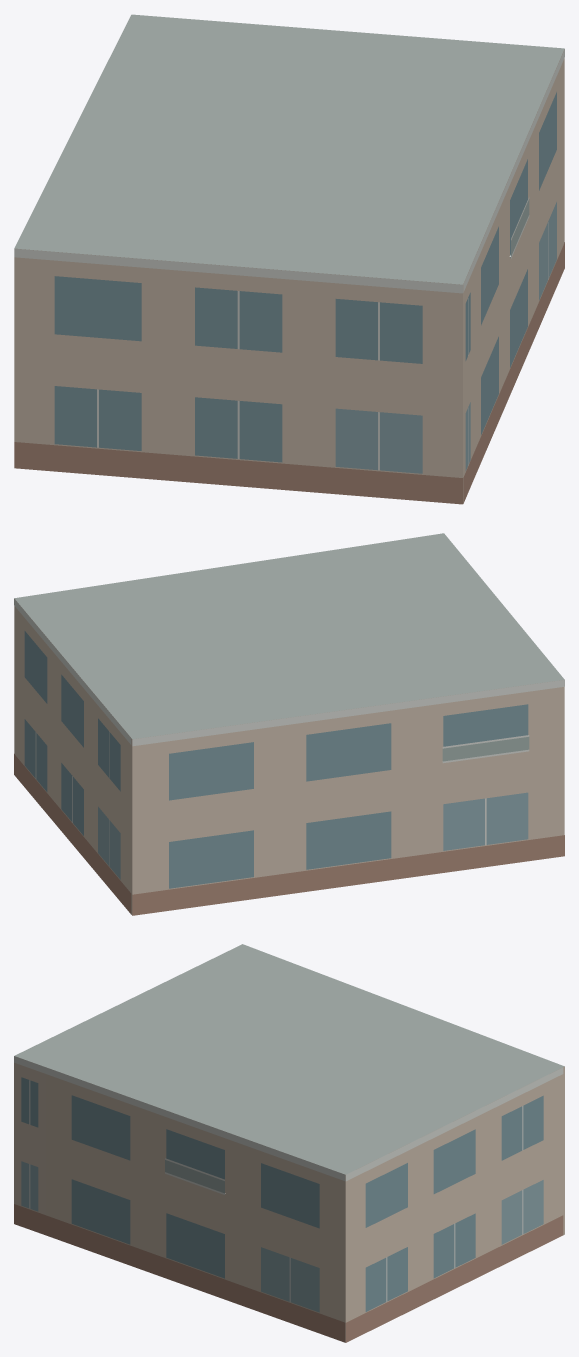
File: survey-upis-32923241.glb
3 views of the same model, one above another, from view 1: azimuth 30°, elevation 25°; view 2: azimuth 150°, elevation 25°; view 3: azimuth 270°, elevation 25° (orthographic). The views are drawn at different scales.
Visible parts, largest first — view 1: survey-upis-32923241.tmp; view 2: survey-upis-32923241.tmp; view 3: survey-upis-32923241.tmp.
Part boxes in pixels (x1=…): survey-upis-32923241.tmp: x1=14, y1=14, x2=564, y2=504; survey-upis-32923241.tmp: x1=14, y1=533, x2=564, y2=915; survey-upis-32923241.tmp: x1=14, y1=944, x2=564, y2=1342.
Bounding box in the file's own units: 17.97 × 6.1 × 18.12.
